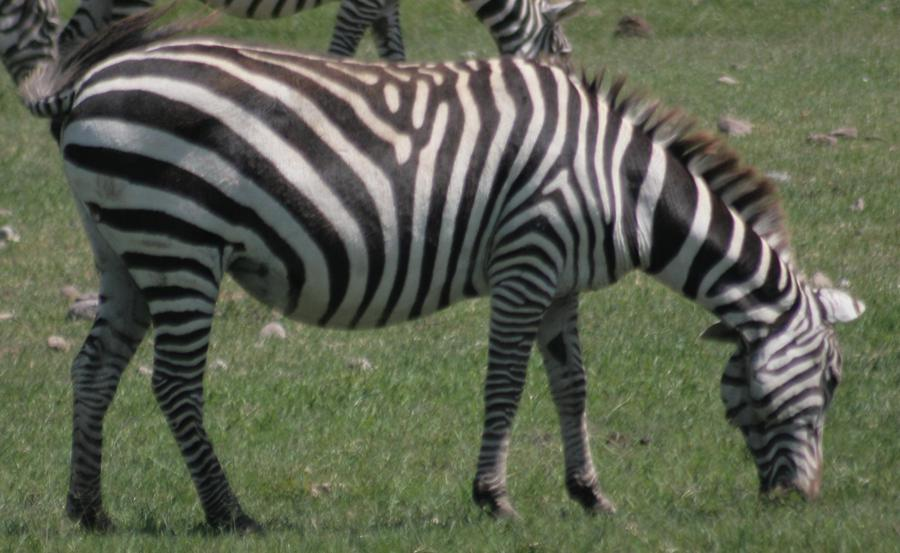zebra_plains: (91, 31, 602, 317)
